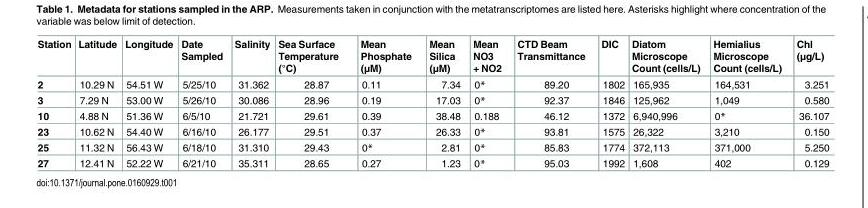table: (37, 37, 829, 168)
table column: (509, 37, 593, 168), (706, 37, 789, 168), (628, 37, 706, 168), (274, 37, 349, 168), (349, 37, 420, 168), (121, 37, 177, 168), (177, 37, 229, 168), (74, 37, 121, 168), (420, 37, 467, 168), (229, 37, 274, 168), (467, 37, 509, 168), (789, 37, 829, 168), (37, 37, 74, 168), (593, 37, 628, 168)
table column header: (37, 37, 829, 75)
table row: (37, 37, 829, 75), (37, 75, 829, 91), (37, 91, 829, 107), (37, 107, 829, 123), (37, 123, 829, 139), (37, 139, 829, 154), (37, 154, 829, 168)
